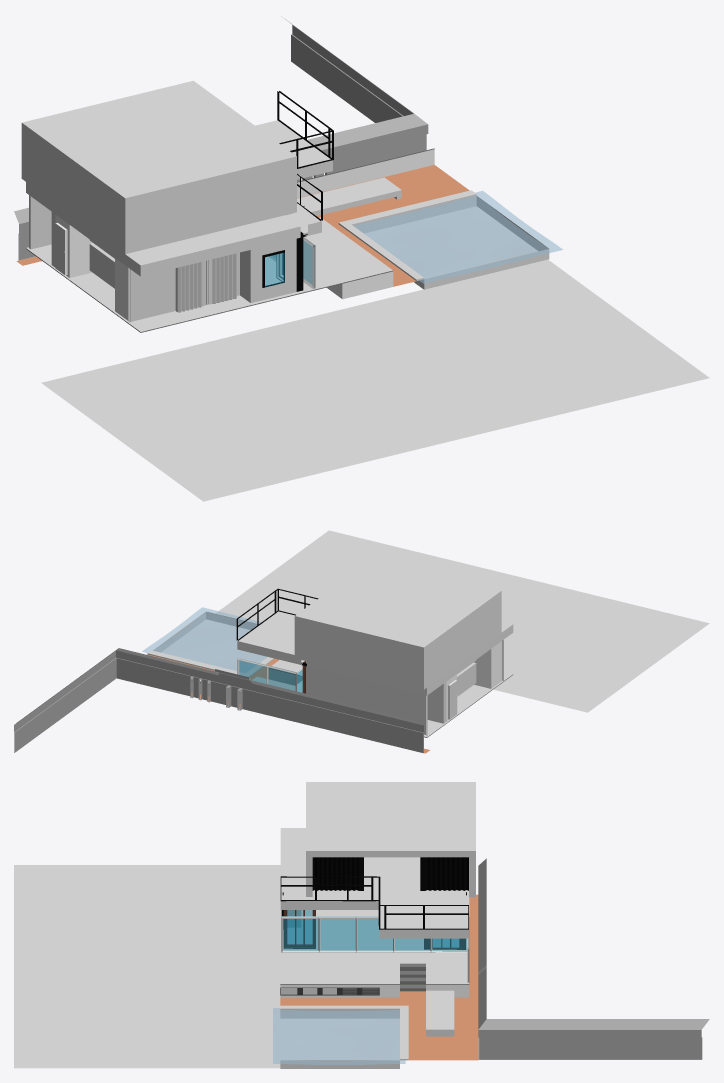
The model's file is outdoor.glb.
3 views of the same model, one above another, from view 1: azimuth 30°, elevation 25°; view 2: azimuth 150°, elevation 25°; view 3: azimuth 270°, elevation 25° (orthographic). The views are drawn at different scales.
Visible parts, largest first — view 1: Plane.022, Plane.008, Cube.002, Plane, Cube, Plane.001, Plane.010, Plane.015, Plane.011, Plane.006, Plane.016, Cube.003 (+2 smaller); view 2: Plane.022, Plane.008, Plane.010, Plane.001, Cube.002, Plane, Cube, Plane.016, Plane.003, Plane.007, Plane.021; view 3: Plane.022, Cube.002, Plane.008, Cube, Plane.010, Plane.001, Plane, Plane.003, Plane.009, Plane.007, Cube.003, Plane.004 (+1 smaller).
Part boxes in pixels (x1,y1,x2,y2): Plane.022: (41,259,709,501); Plane.008: (21,80,296,254); Cube.002: (16,165,549,289); Plane: (353,191,562,283); Cube: (26,148,434,332); Plane.001: (26,120,332,276); Plane.010: (14,16,428,260); Plane.015: (128,250,250,322); Plane.011: (177,253,236,312); Plane.006: (250,238,296,302); Plane.016: (55,214,130,321); Cube.003: (297,177,401,215); Plane.022: (207,530,709,712); Plane.008: (294,559,501,689); Plane.010: (14,648,423,753); Plane.001: (237,611,513,736); Cube.002: (147,611,429,753); Plane: (142,607,267,672); Cube: (191,660,513,737); Plane.016: (446,641,502,721); Plane.003: (239,658,302,692); Plane.007: (236,588,318,640); Plane.021: (457,660,476,696); Plane.022: (14,865,280,1068); Cube.002: (280,894,478,1068); Plane.008: (306,782,475,897); Cube: (280,883,469,997); Plane.010: (478,858,709,1059); Plane.001: (280,828,468,949); Plane: (273,1008,405,1064); Plane.003: (281,916,467,950); Plane.009: (312,857,468,890); Plane.007: (280,876,468,929); Cube.003: (426,990,454,1036); Plane.004: (281,916,469,983).
Size of the model in its own units: 48.31 by 13.32 by 68.42.
